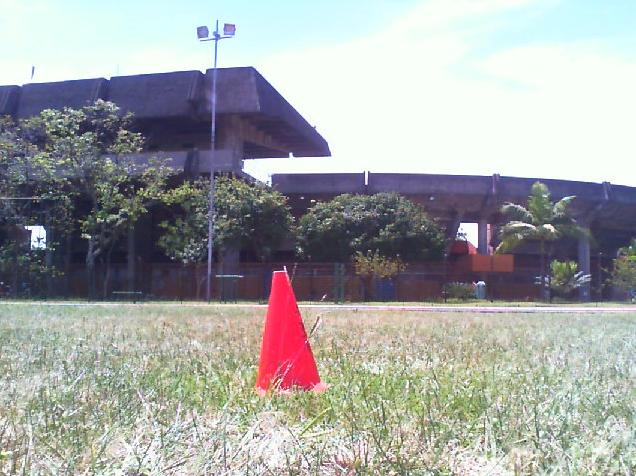0 cone: (254, 271, 331, 397)
